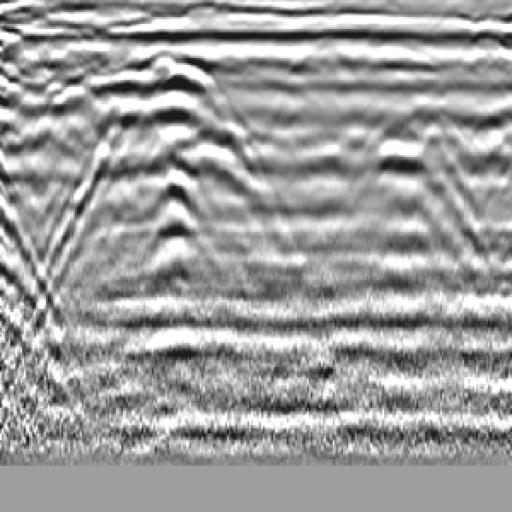metalic: (104, 50, 247, 236)
